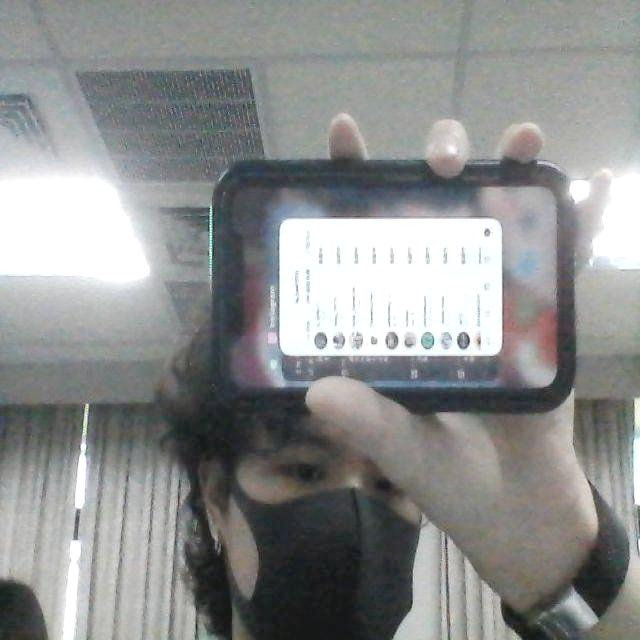phone: (202, 142, 586, 422)
